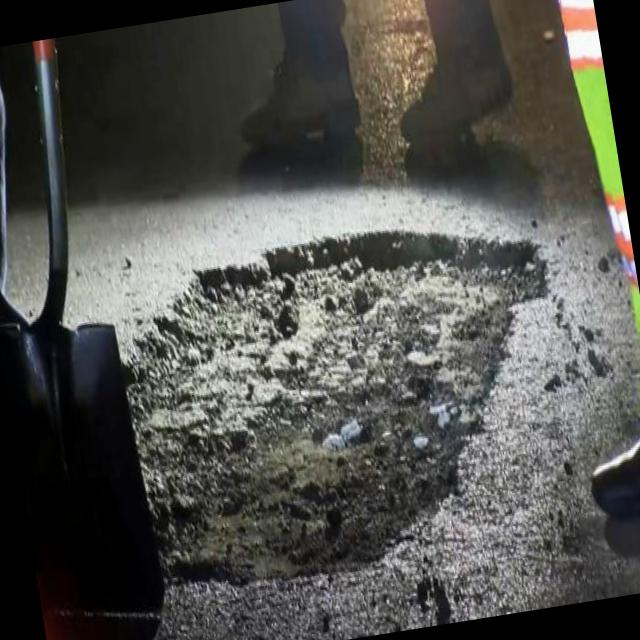bad-road: (112, 205, 590, 602)
